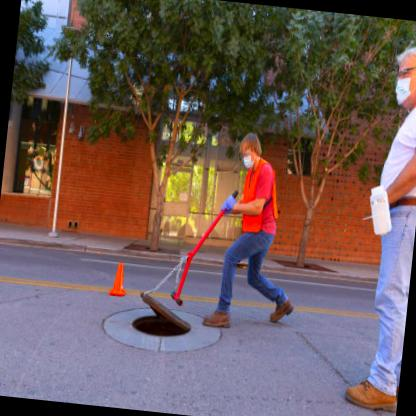manholes: (116, 272, 200, 361)
